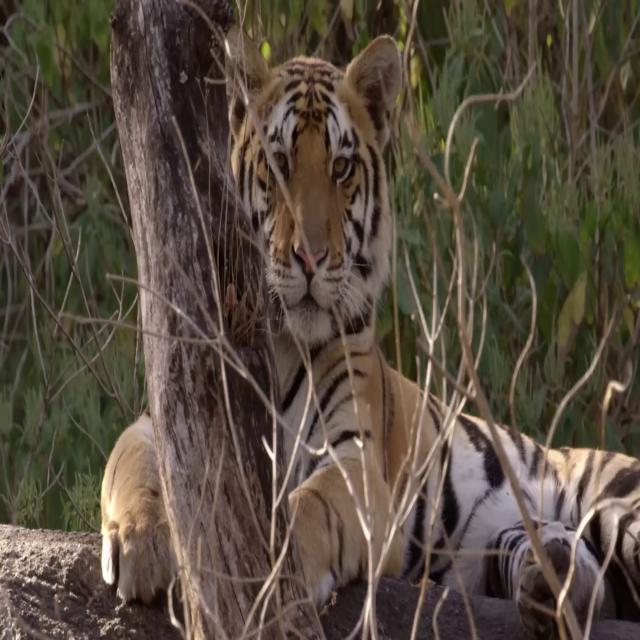tiger: (100, 28, 640, 640)
